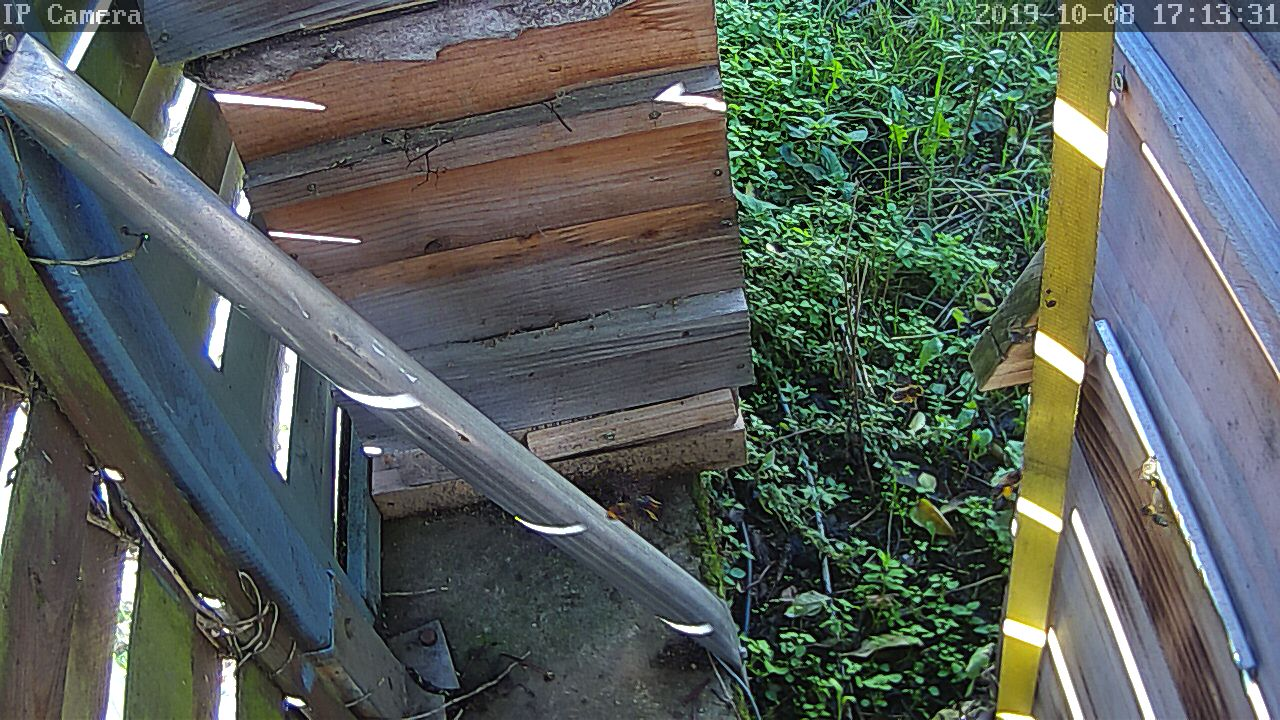bee: (1132, 451, 1167, 490), (1138, 497, 1171, 529)
hornet: (602, 492, 663, 526)
